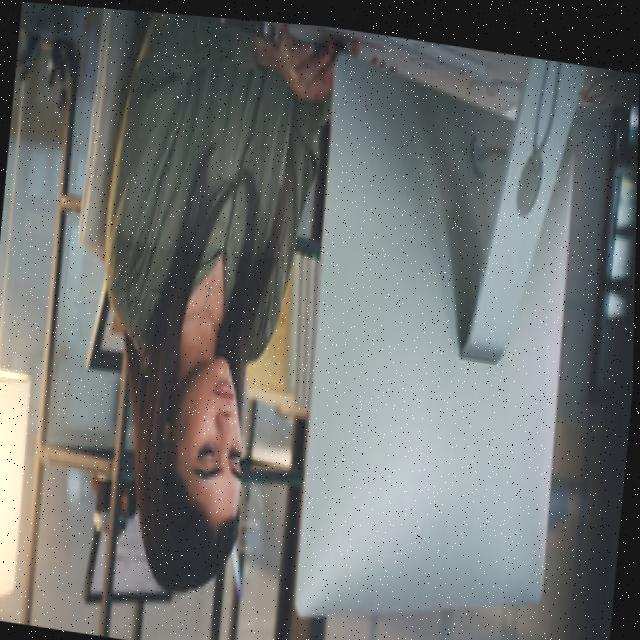desktop-person: (61, 5, 609, 640)
